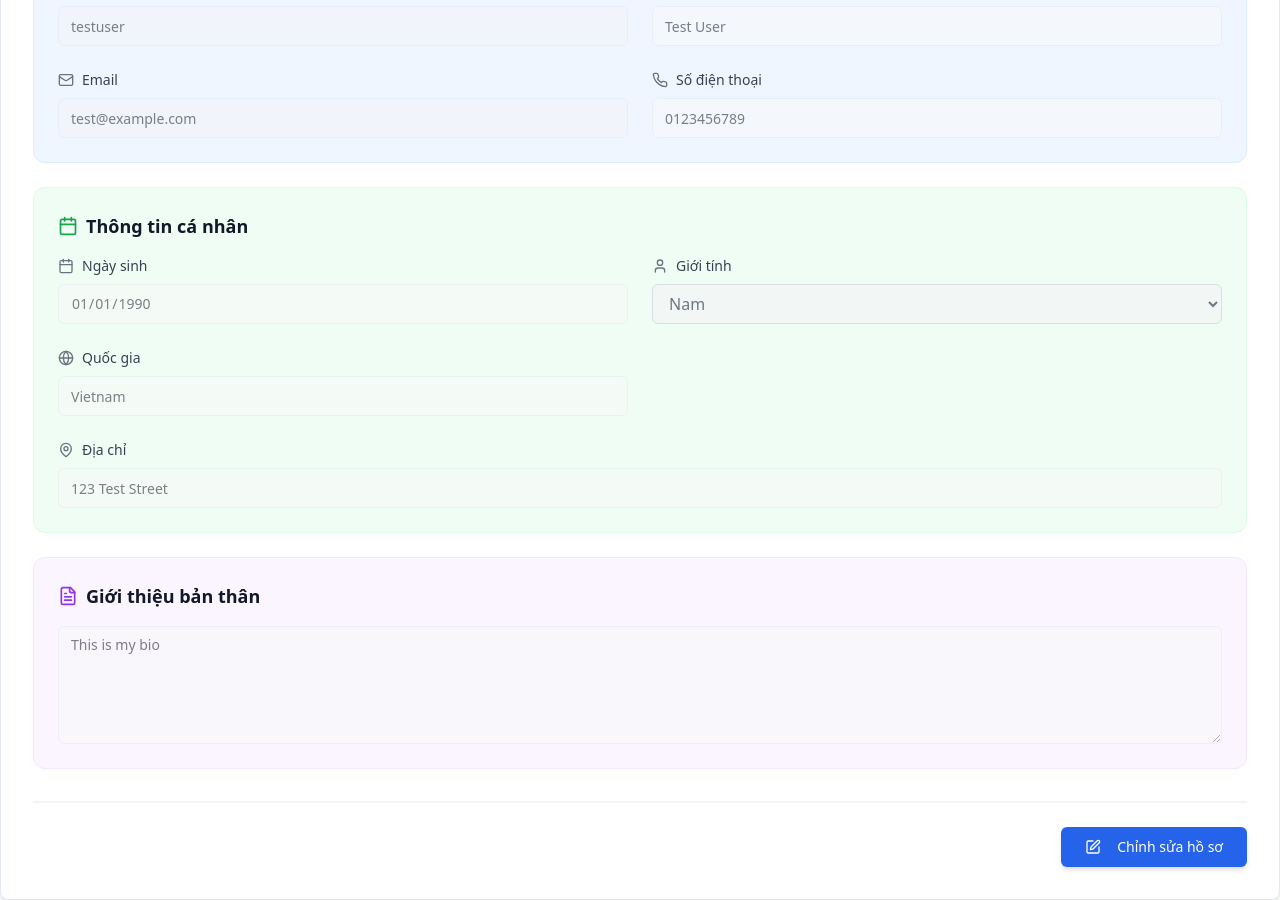
Test: Update Profile Functional Tests › Enables editing mode when clicking edit button
(page scrolled)
Note:  2️⃣ ACT
Click the button "Chỉnh sửa hồ sơ".
click(1154, 847)  # box [1061,827,1247,867]
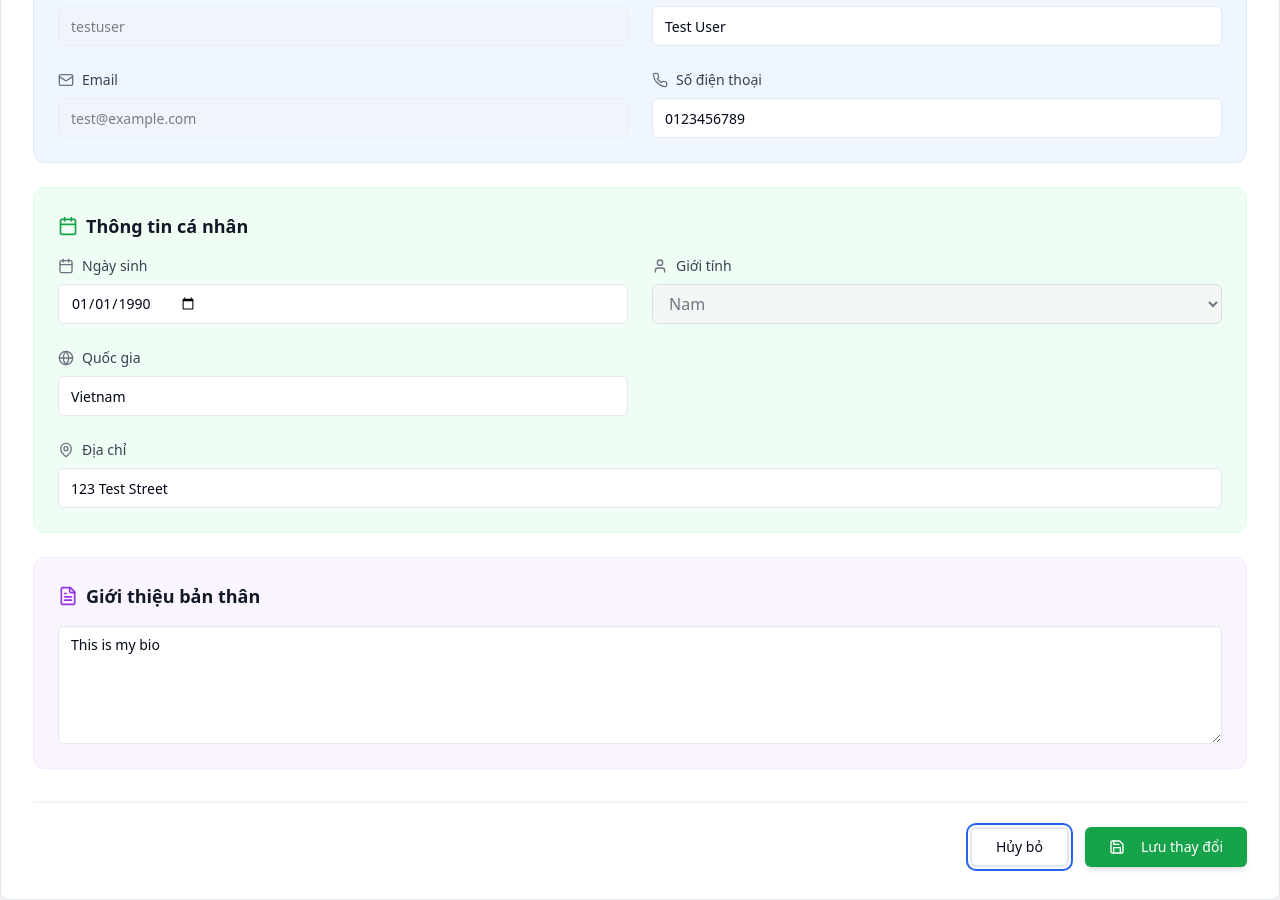
Expected: the button "Lưu thay đổi" is shown, [1085,827,1247,867]
Expected: the button "Hủy bỏ" is shown, [970,827,1069,867]
